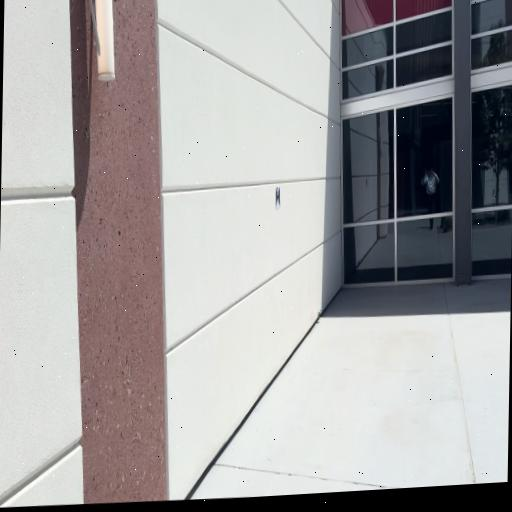target0: (275, 185, 280, 209)
